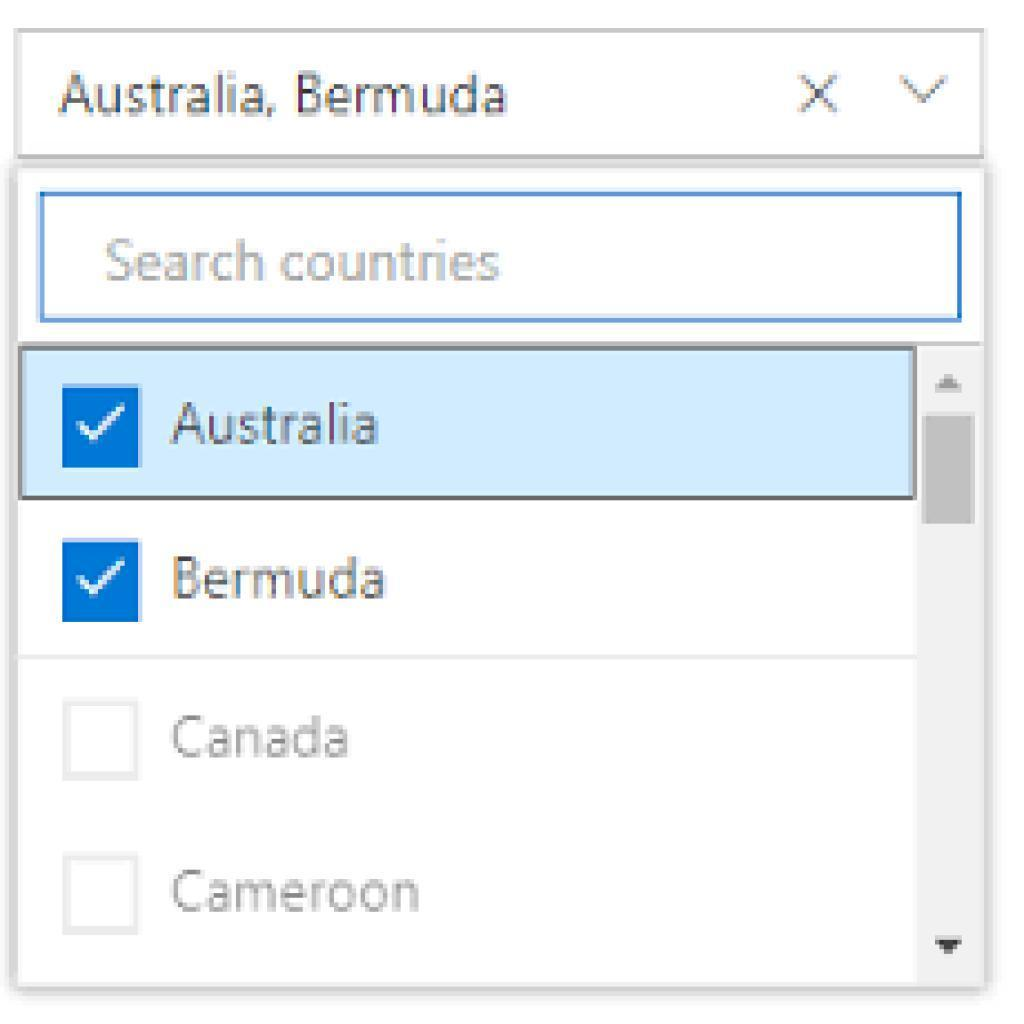checkbox: (60, 380, 147, 473), (60, 852, 146, 940), (59, 537, 143, 624), (61, 701, 143, 783)
dropdown: (14, 30, 989, 162)
input: (39, 191, 962, 323)
